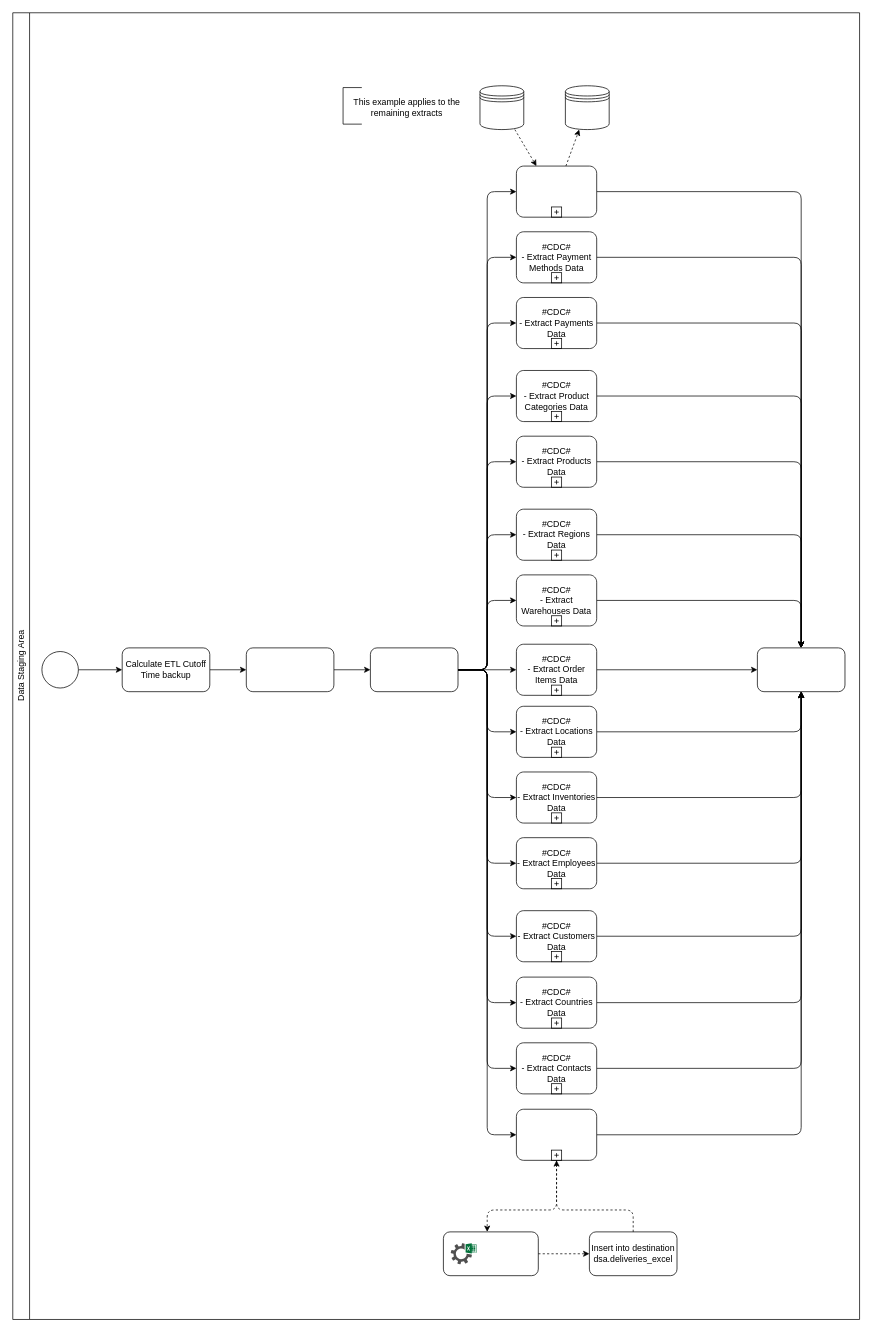
This 872x1332 diagram has some shape labels left out. The box of each missing label's shape, as (x1, y1, x2, y2) in pixels:
#CDC# - Extract Deliveries Excel Data: (516, 1109, 597, 1160)
#CDC# - Extract Orders Data: (516, 165, 597, 217)
dbo.orders: (479, 85, 524, 130)
dsa.orders: (565, 85, 609, 130)
Excel Source: (443, 1231, 538, 1276)
Get Last ETL Cutoff Time: (246, 647, 334, 692)
Insert Cutoff: (757, 647, 845, 692)
Truncate DSA: (370, 647, 458, 692)
